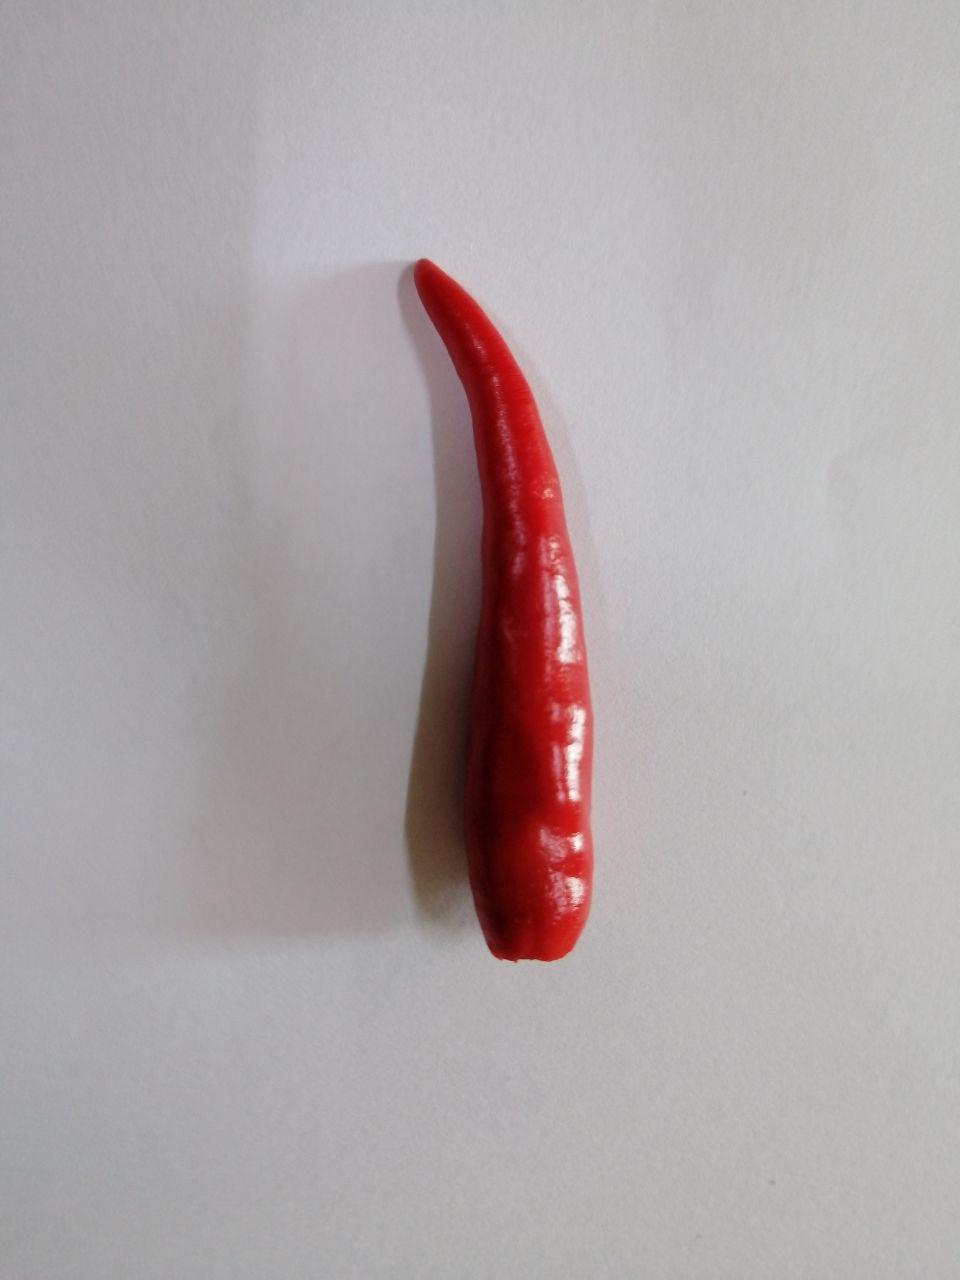lada merah: (394, 247, 606, 984)
